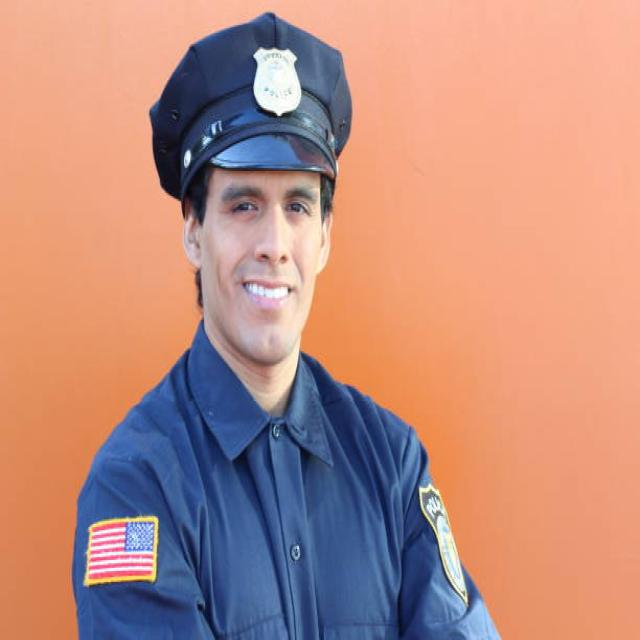police: (76, 41, 481, 640)
